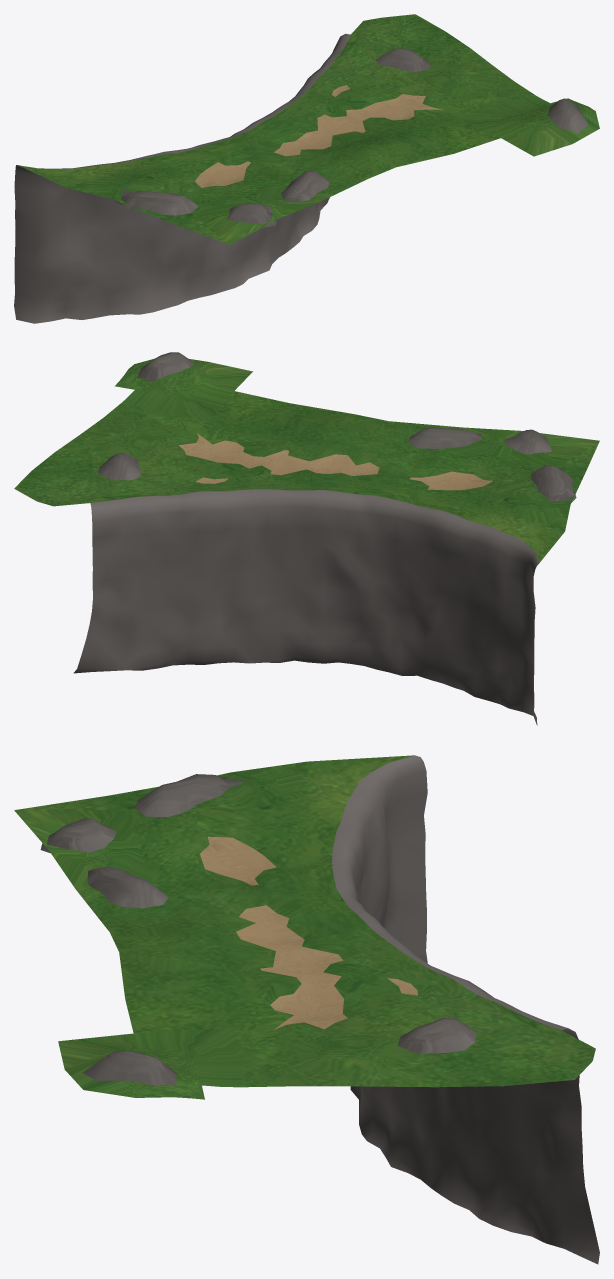
Rendered from SM_ENV_KNFRST_Cliff_C_COL.FBX.
The picture shows the model from 3 angles, top to bottom: view 1: azimuth 30°, elevation 25°; view 2: azimuth 150°, elevation 25°; view 3: azimuth 270°, elevation 25°; orthographic projection. The views are drawn at different scales.
Visible parts, largest first — view 1: SM_ENV_KNFRST_Cliff_C_COL; view 2: SM_ENV_KNFRST_Cliff_C_COL; view 3: SM_ENV_KNFRST_Cliff_C_COL.
Boxes of the visible parts, bbox=[...] form: SM_ENV_KNFRST_Cliff_C_COL: bbox=[14, 14, 599, 323]; SM_ENV_KNFRST_Cliff_C_COL: bbox=[14, 352, 599, 725]; SM_ENV_KNFRST_Cliff_C_COL: bbox=[14, 755, 599, 1264].
Bounding box in the file's own units: 6514 × 2310 × 4610.
